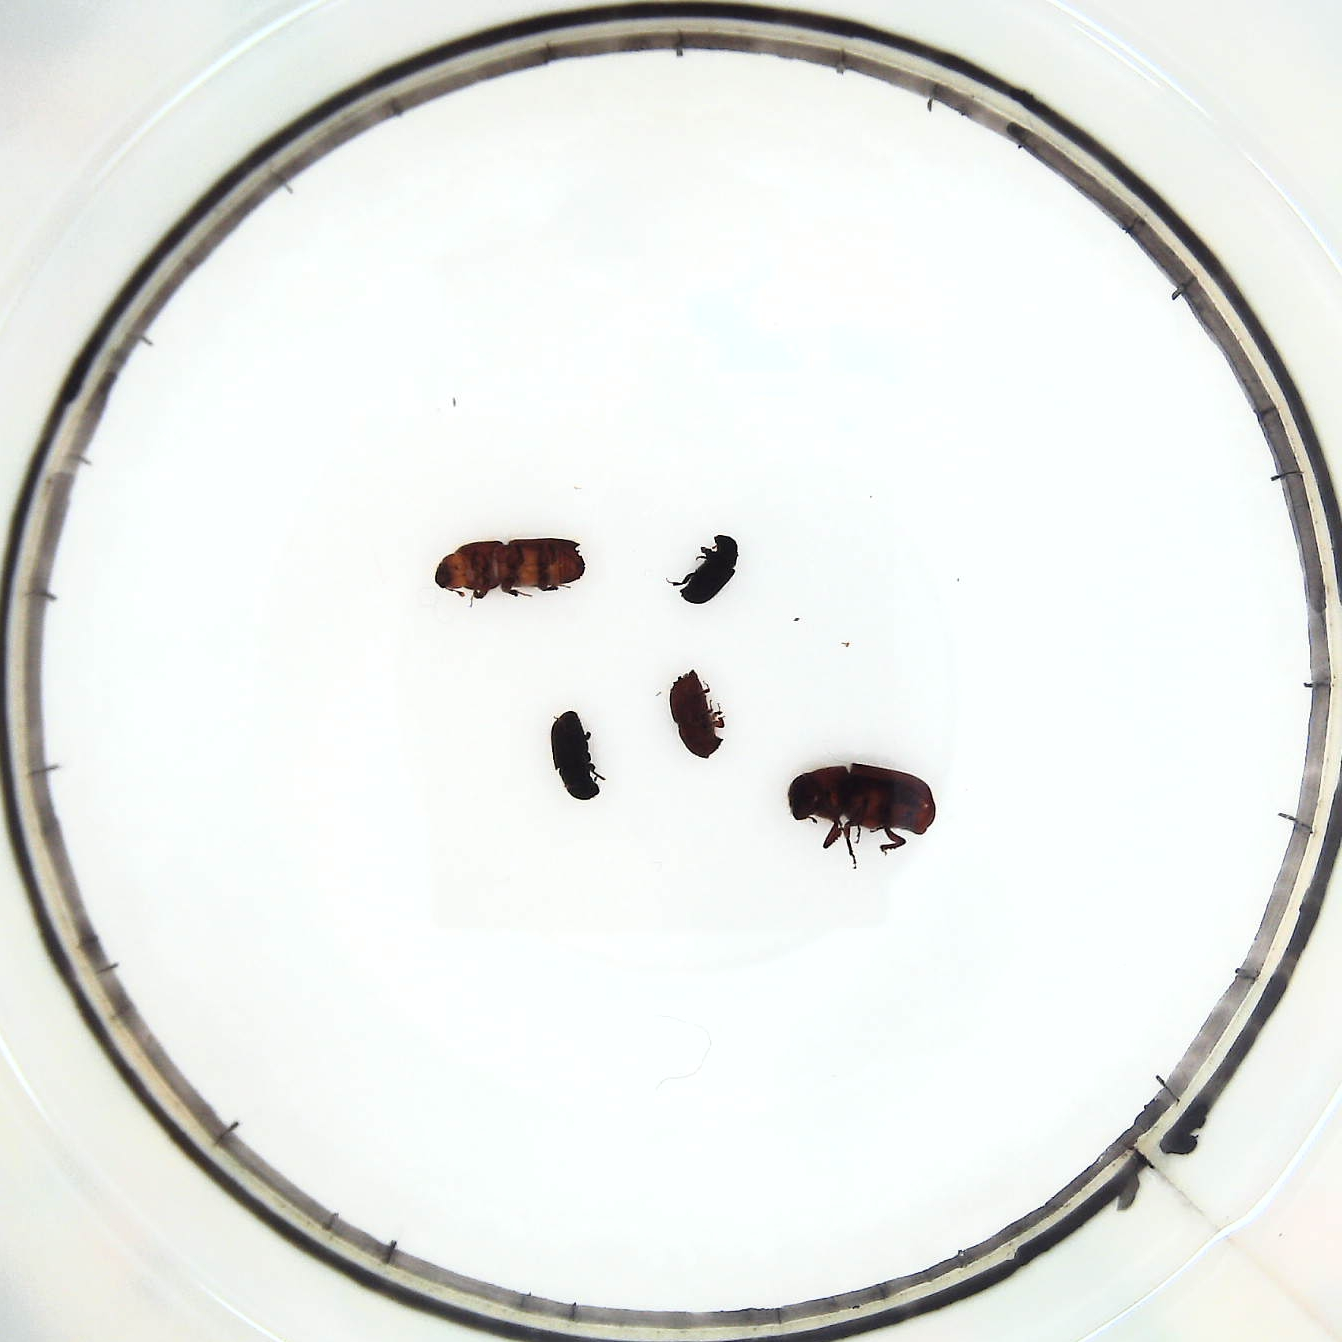Boerner: (433, 531, 594, 598)
Leconte: (783, 759, 941, 865)
armandi: (544, 709, 607, 806)
coleoptera: (671, 531, 746, 611)
linnaeus: (662, 665, 732, 762)
